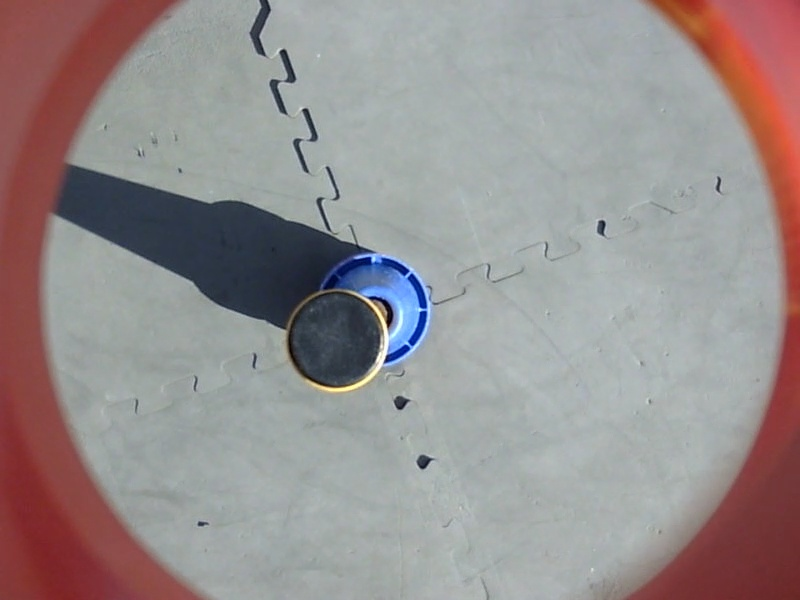tip: (278, 283, 391, 398)
